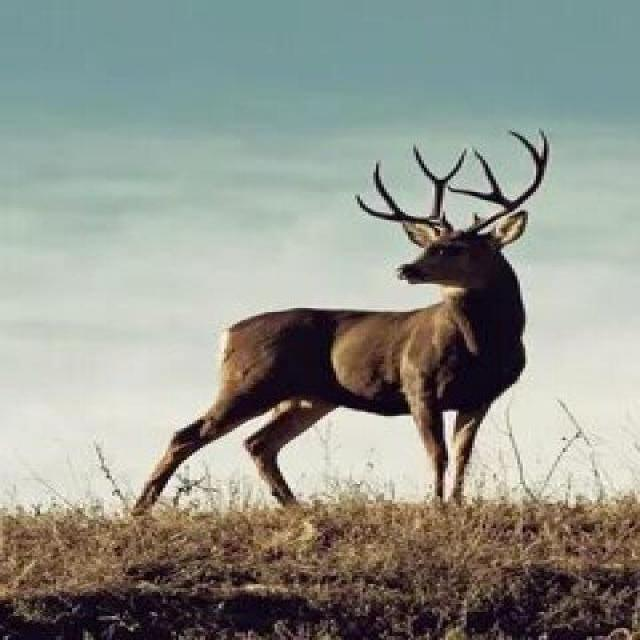deer: (148, 163, 640, 570)
